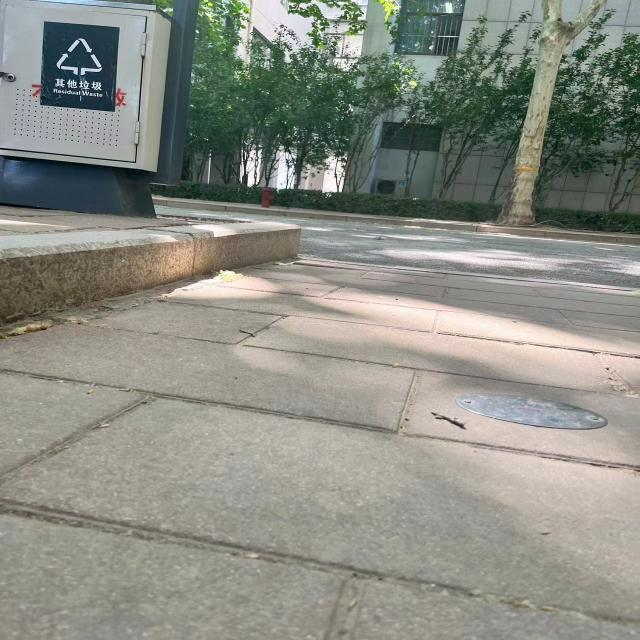curb: (1, 222, 303, 333)
